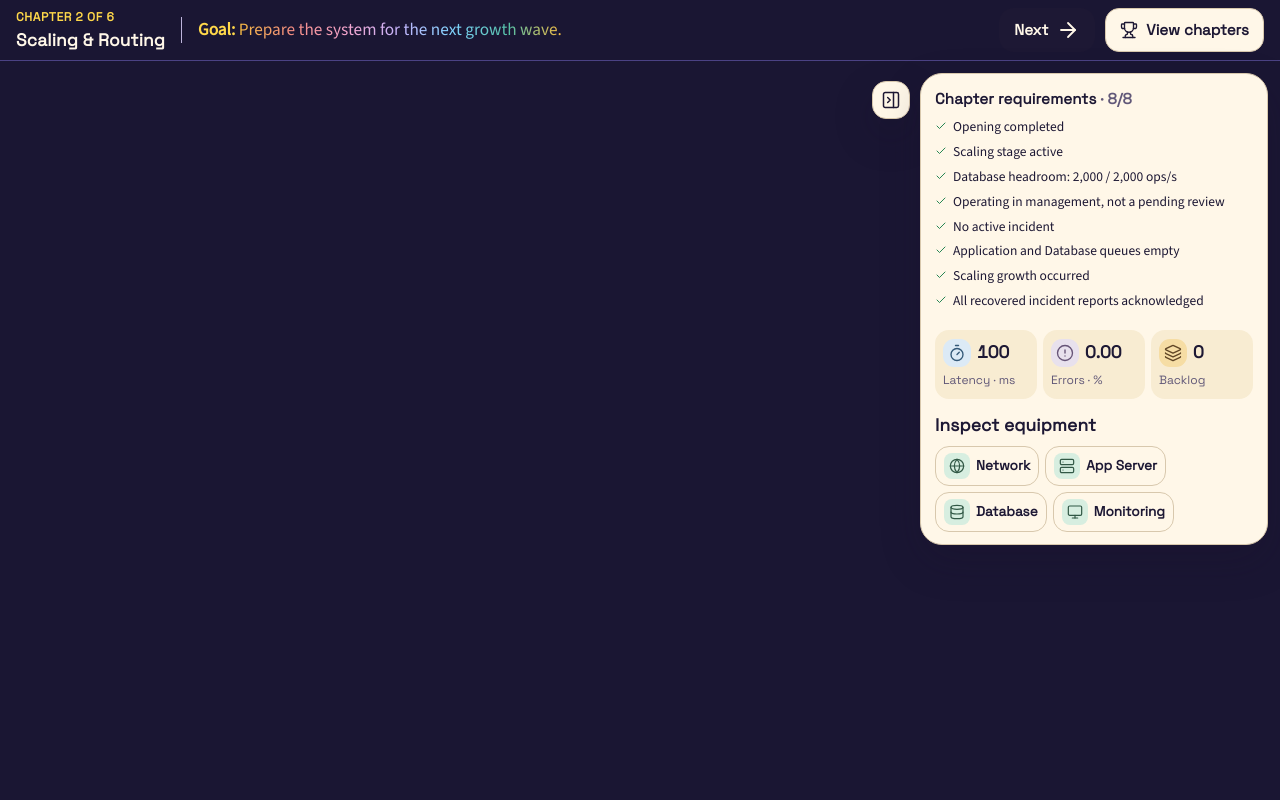
keeps the selected workload hidden until actual growth and enters through the paused store
Expected: the element named "Current objective" shows "Prepare the system for the next growth wave.", 239,18 -> 562,41
Expected: the element "Guided Mode guidance" does not show "Prepare the system for the next growth wave."
Click the button with aria-label "Continue to Data Strategy" at x=1047, y=30, box 999,8 -> 1095,52
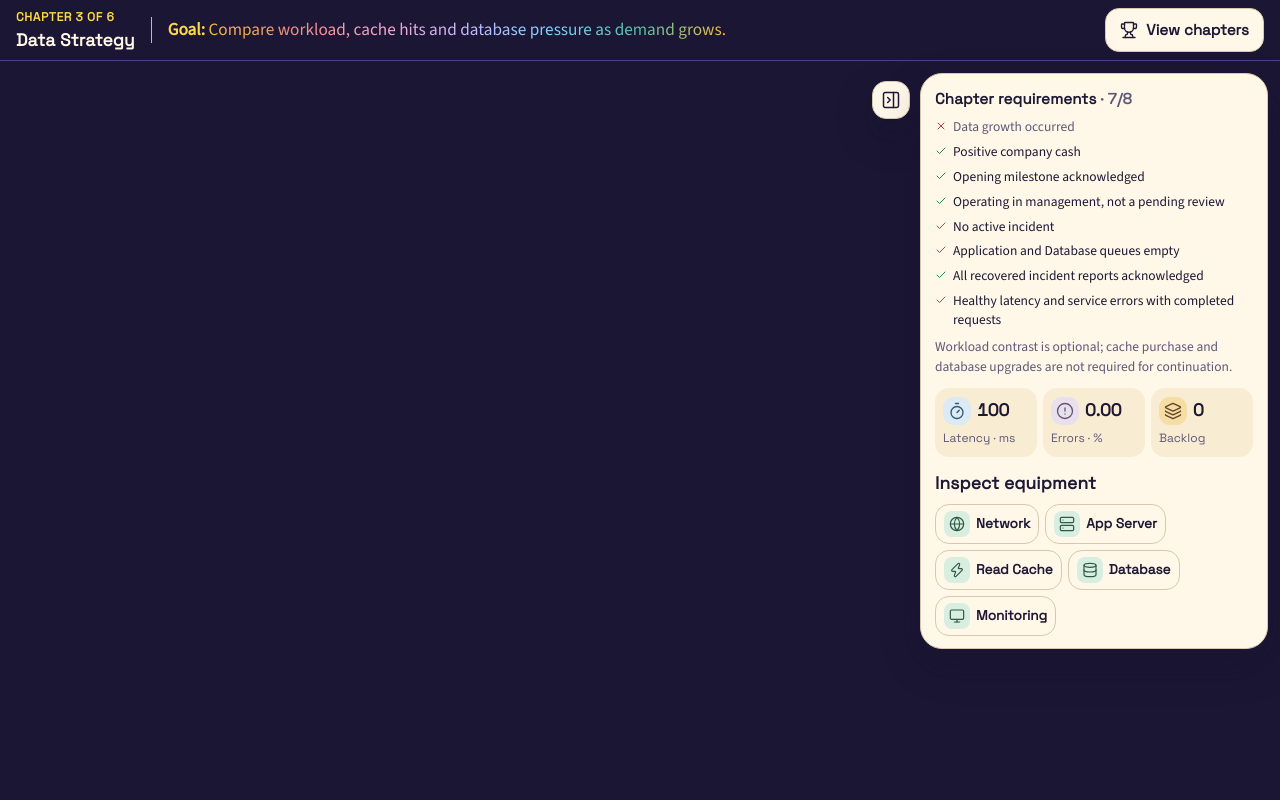
Click the button "Read Cache" at x=998, y=570, box 935,550 -> 1062,590
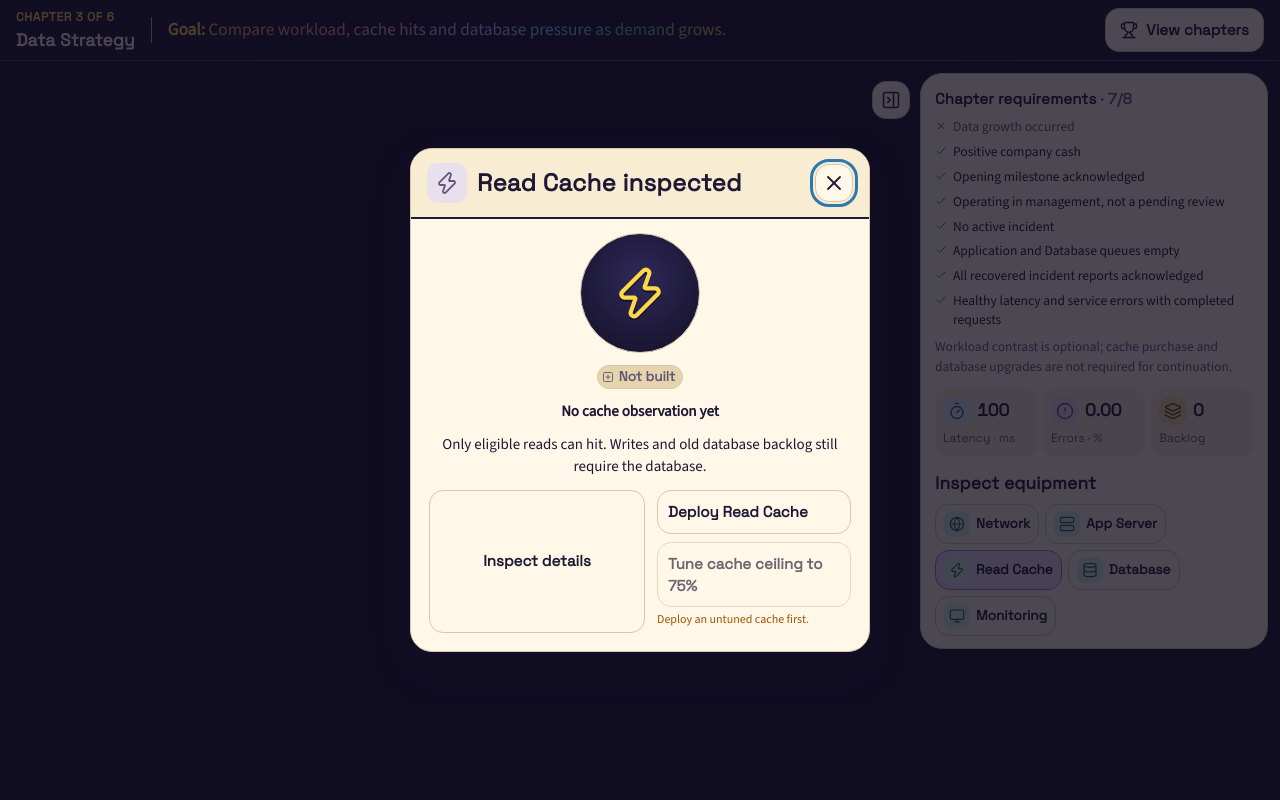
Click the button "Inspect details" at x=537, y=561, box 429,490 -> 645,633
(page scrolled)
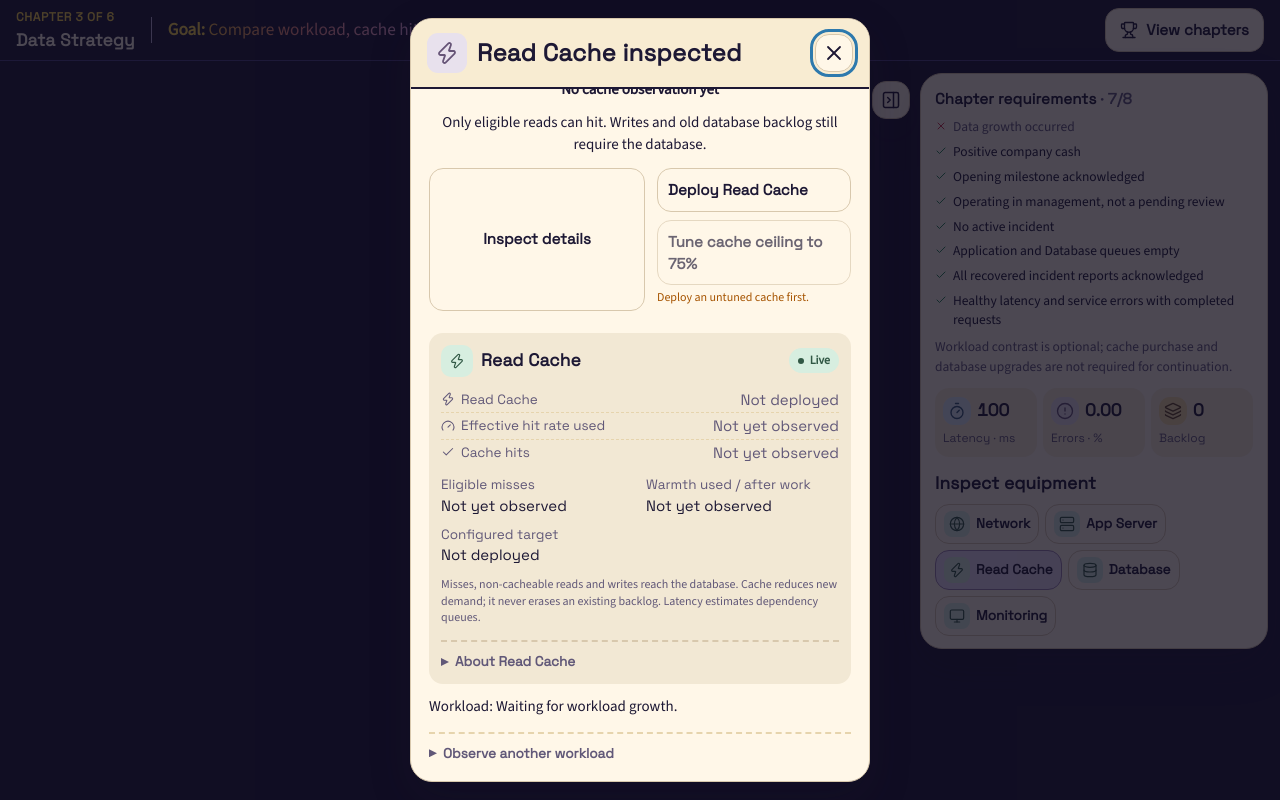
Expected: the element named "Data strategy" shows "Waiting for workload growth", 496,696 -> 674,716
